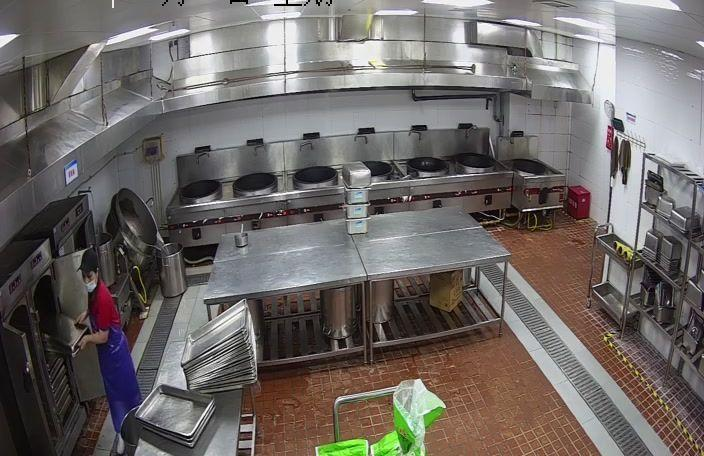mask: (81, 278, 97, 290)
